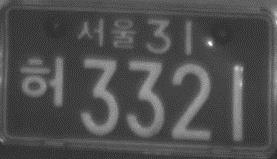1: (226, 62, 246, 145), (180, 17, 199, 58)
2: (171, 61, 214, 144)
3: (119, 58, 168, 140), (80, 56, 119, 135), (146, 16, 173, 56)
서울_O: (77, 16, 137, 53)
허: (19, 56, 64, 111)
